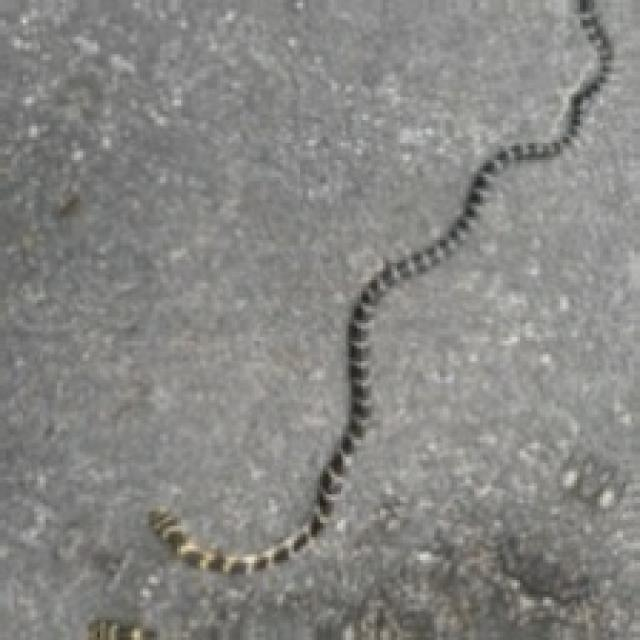king cobra: (149, 0, 611, 571)
